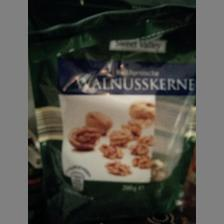Nuss: (28, 4, 196, 224)
